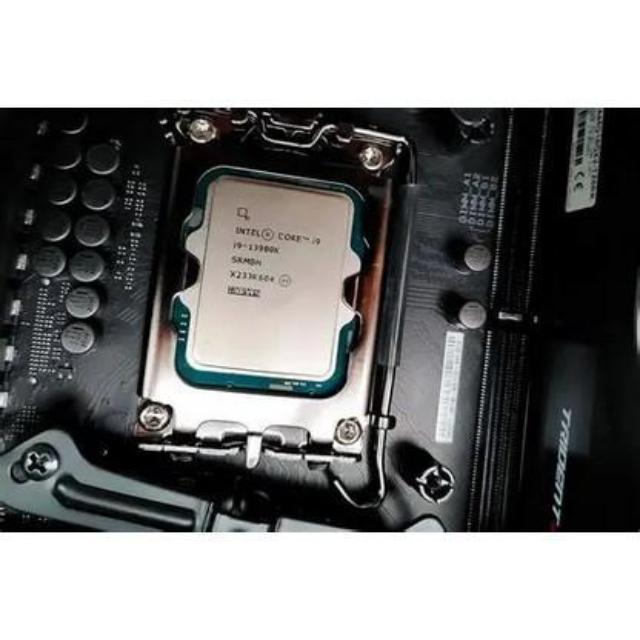CPU: (178, 172, 352, 392)
